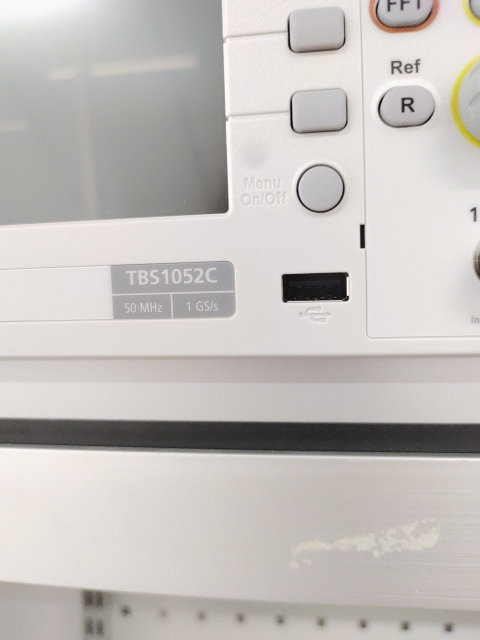USB: (279, 270, 351, 302)
